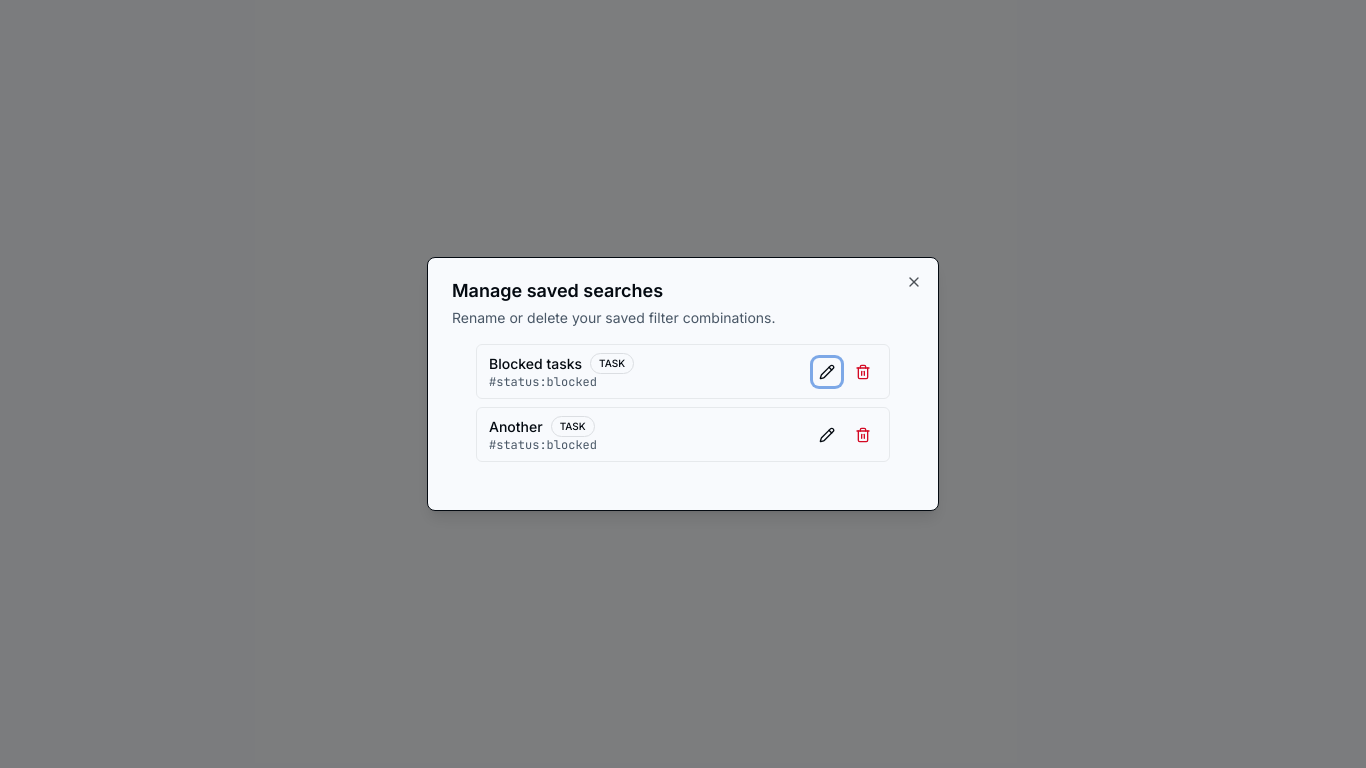
Scenario: SavedSearchesManager › rejects duplicate label within same surface (case-insensitive)
Step 1. Click the button named "rename another" → click(827, 434), box [813,420,841,448]
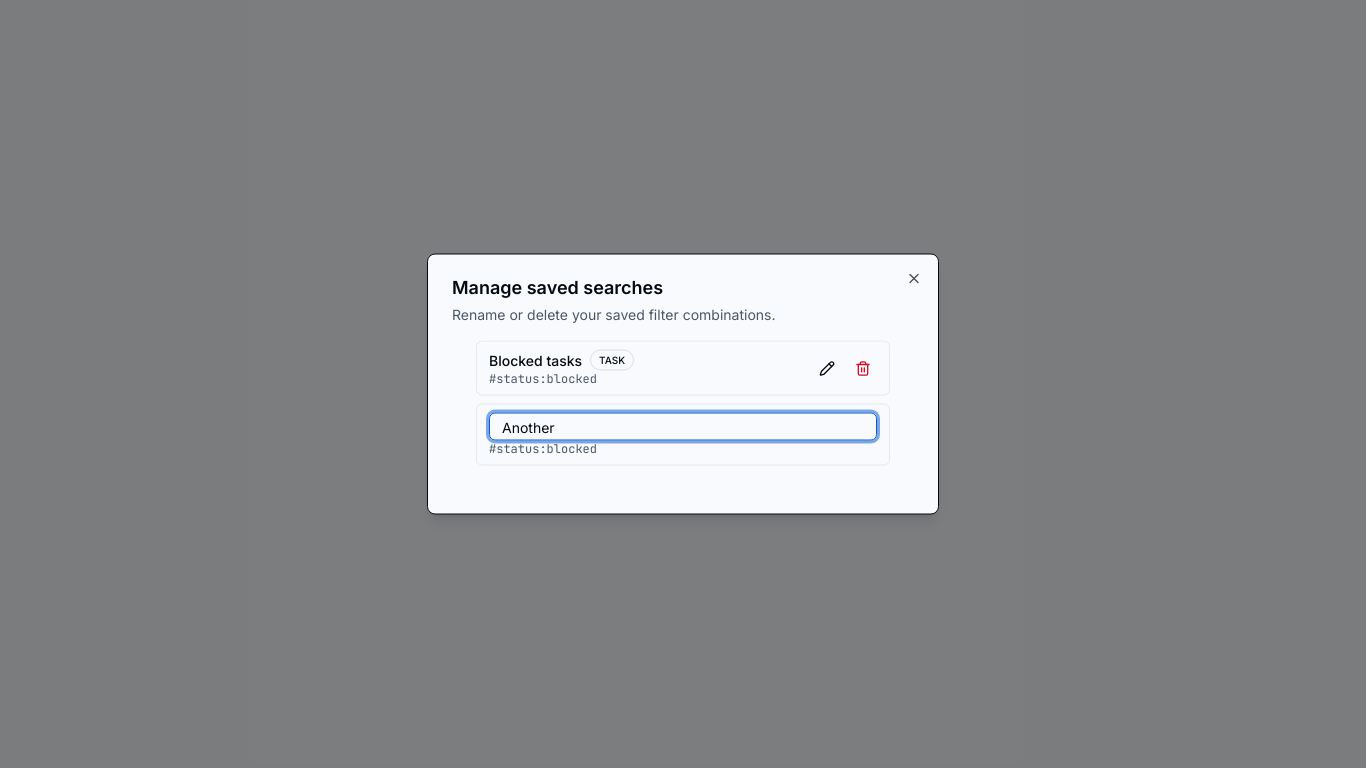
Step 2. Replace the text in the field named "rename" with "blocked TASKS" → (683, 426), box [489,412,877,440]
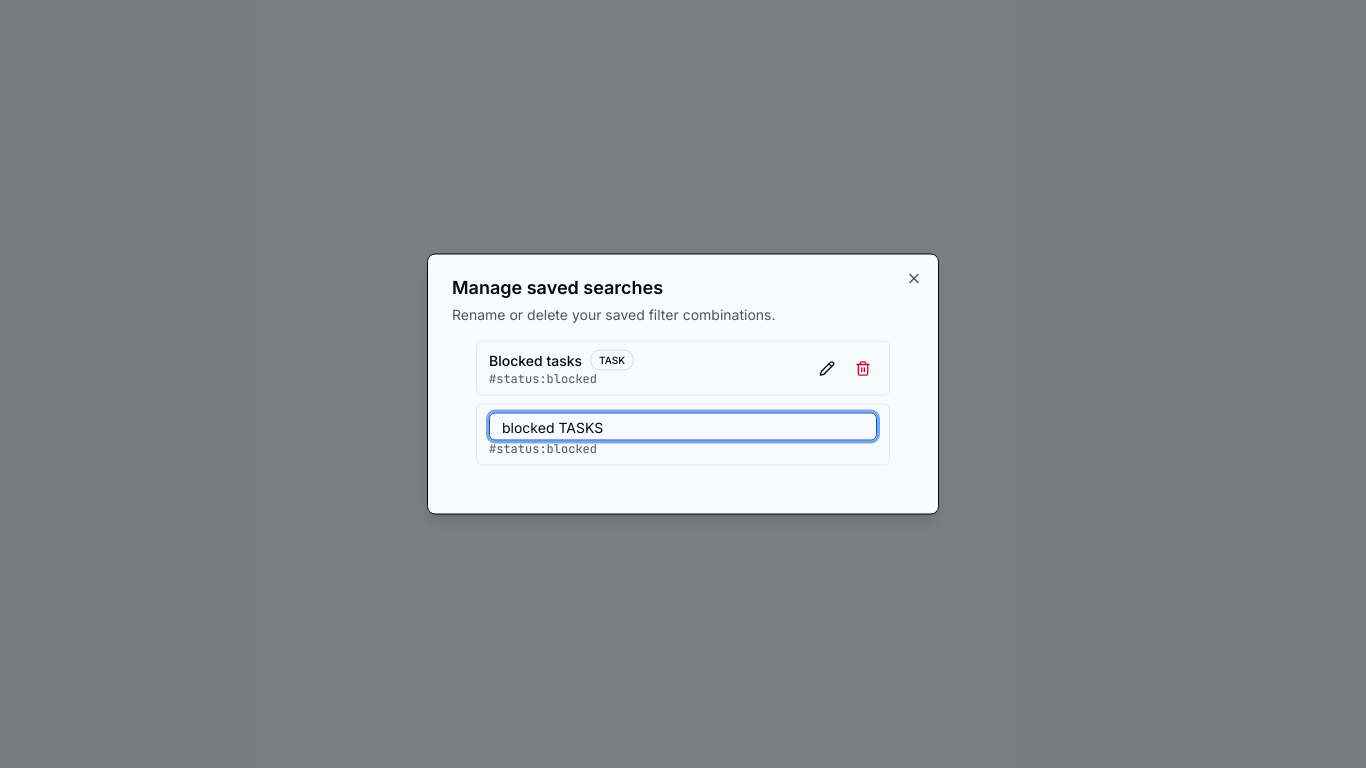
Step 3. Leave the field named "rename", box [489,412,877,440]
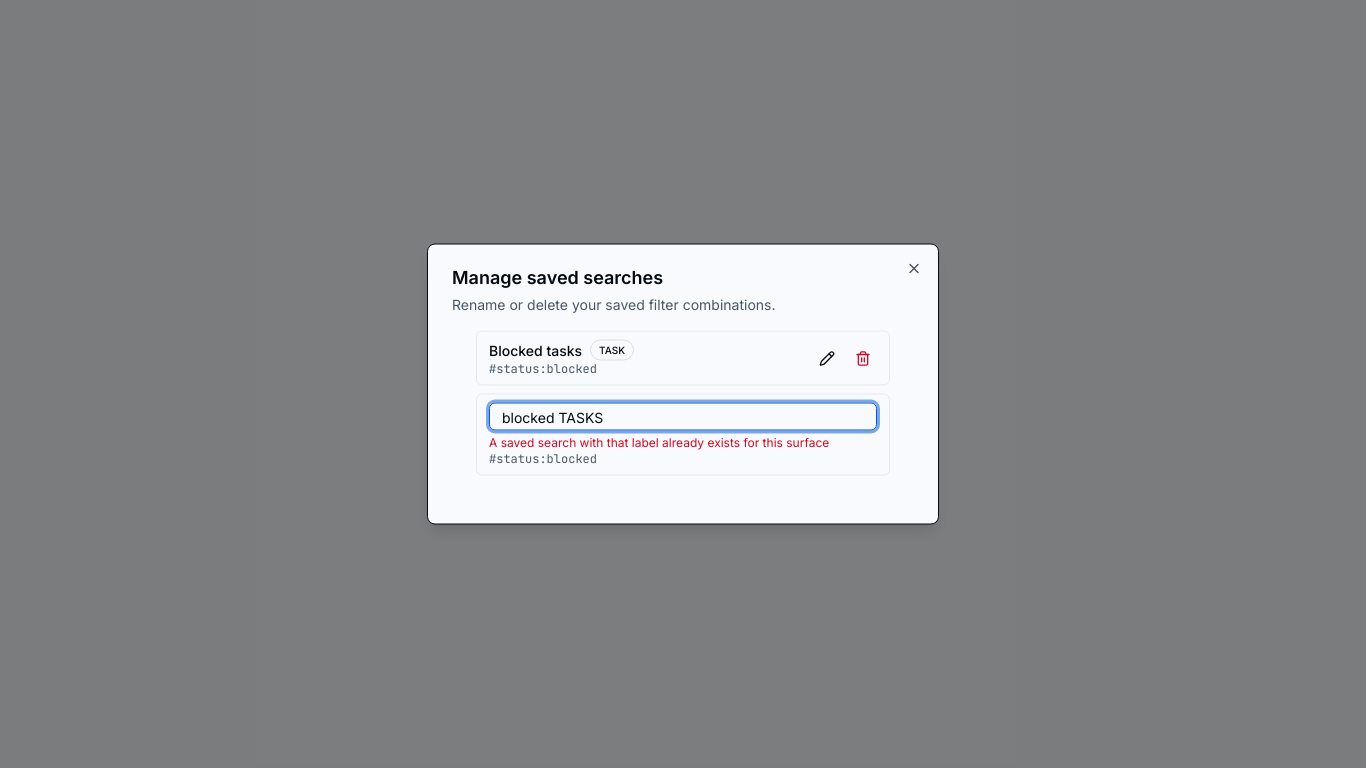
Check: the text "already exists" is shown, box [489,434,829,450]
